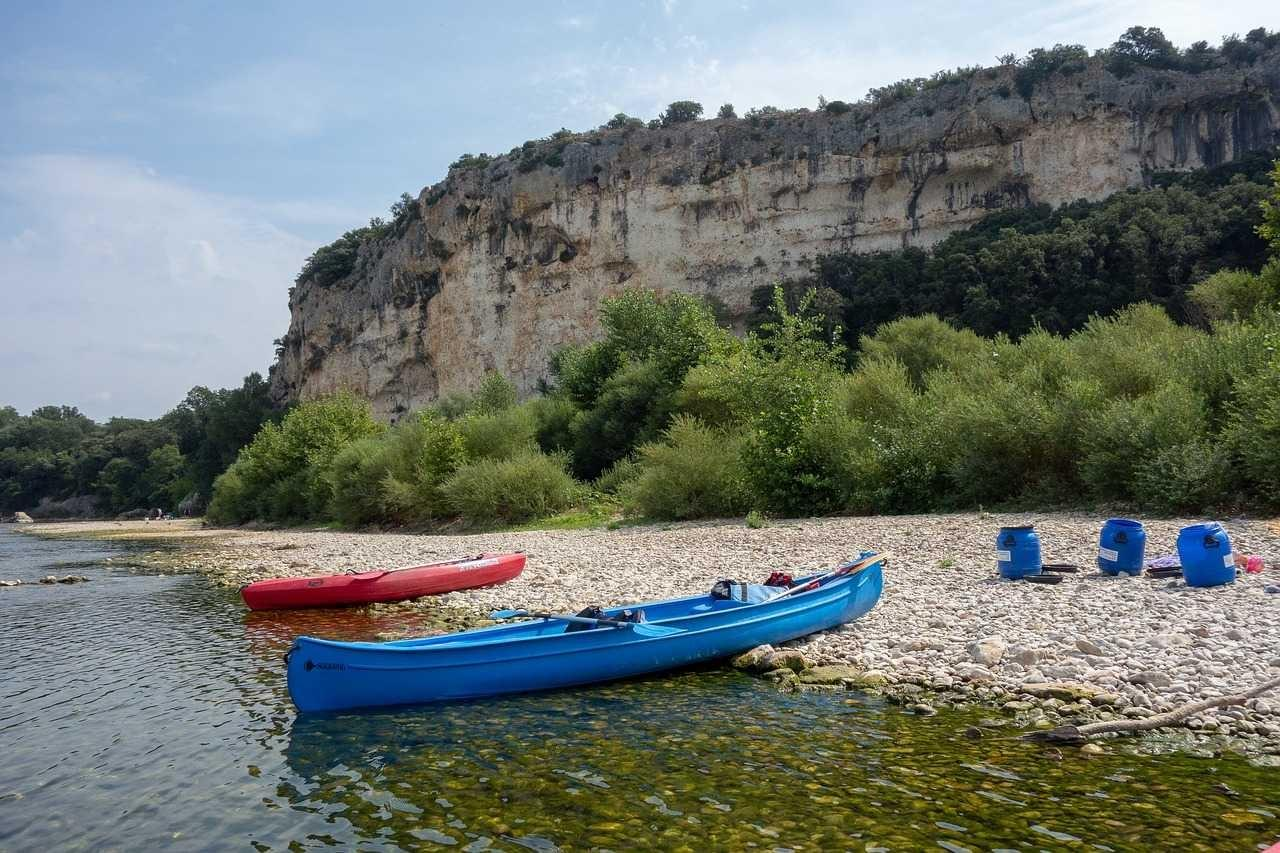kayak: (286, 549, 888, 717), (241, 549, 528, 611), (995, 521, 1043, 579)
